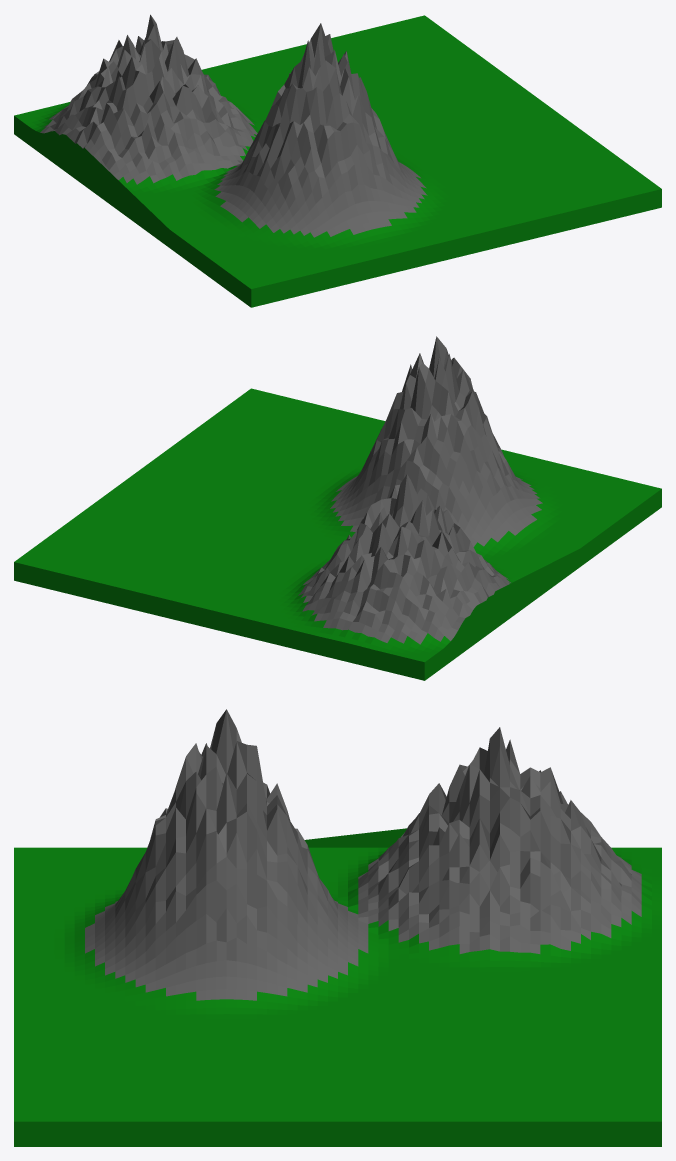
Rendered from Mountains.fbx.
The picture shows the model from 3 angles, top to bottom: view 1: azimuth 30°, elevation 25°; view 2: azimuth 150°, elevation 25°; view 3: azimuth 270°, elevation 25°; orthographic projection. The views are drawn at different scales.
Parts seen in each view (by area): view 1: Mountains; view 2: Mountains; view 3: Mountains.
Part boxes in pixels (left/top/right/bottom): Mountains: left=14, top=14, right=661, bottom=307; Mountains: left=14, top=336, right=661, bottom=680; Mountains: left=14, top=709, right=661, bottom=1146.
Bounding box in the file's own units: 998 × 446 × 998.
